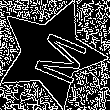M_NW: (18, 23, 84, 84)
